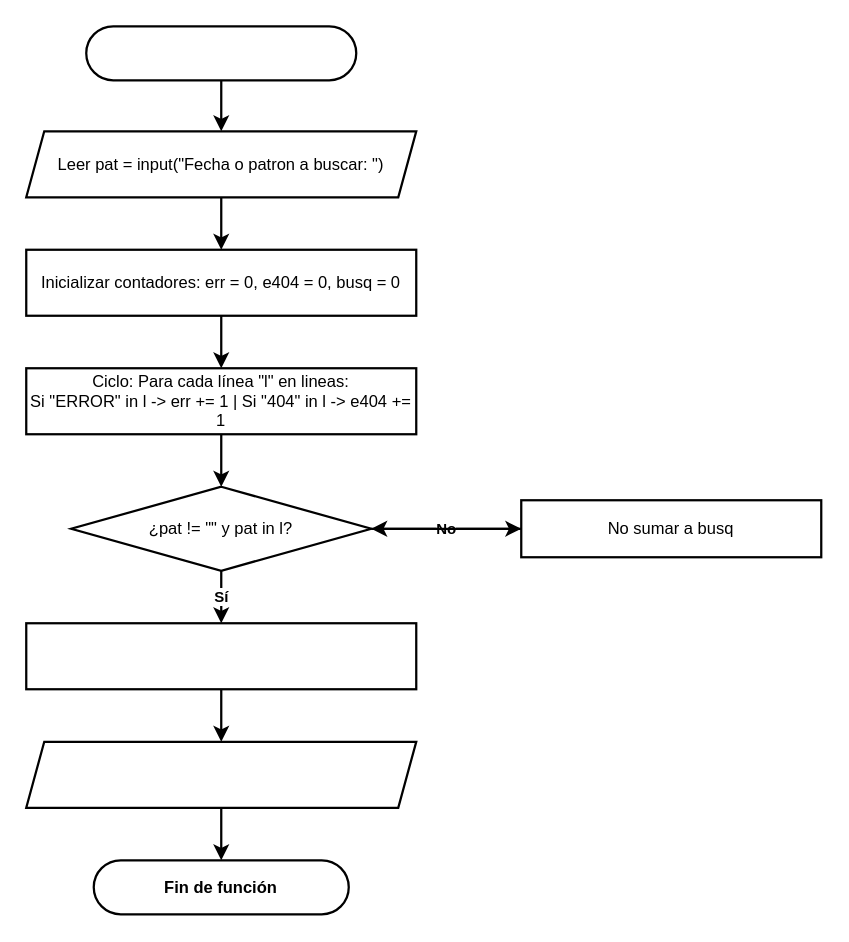
Some shapes in this 849 by 942 pixel diagram are drawn without their labels. Each missing label, with the box of its shape:
Imprimir conteos finales de ERROR, 404 y Patron buscado: (24, 740, 417, 808)
Incrementar busq = busq + 1: (24, 621, 417, 690)
Inicio: patrones_txt(lineas): (84, 24, 357, 81)
